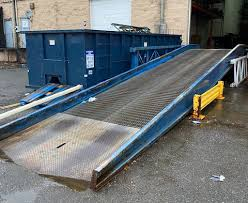Yard Ramp: (4, 43, 247, 184)
